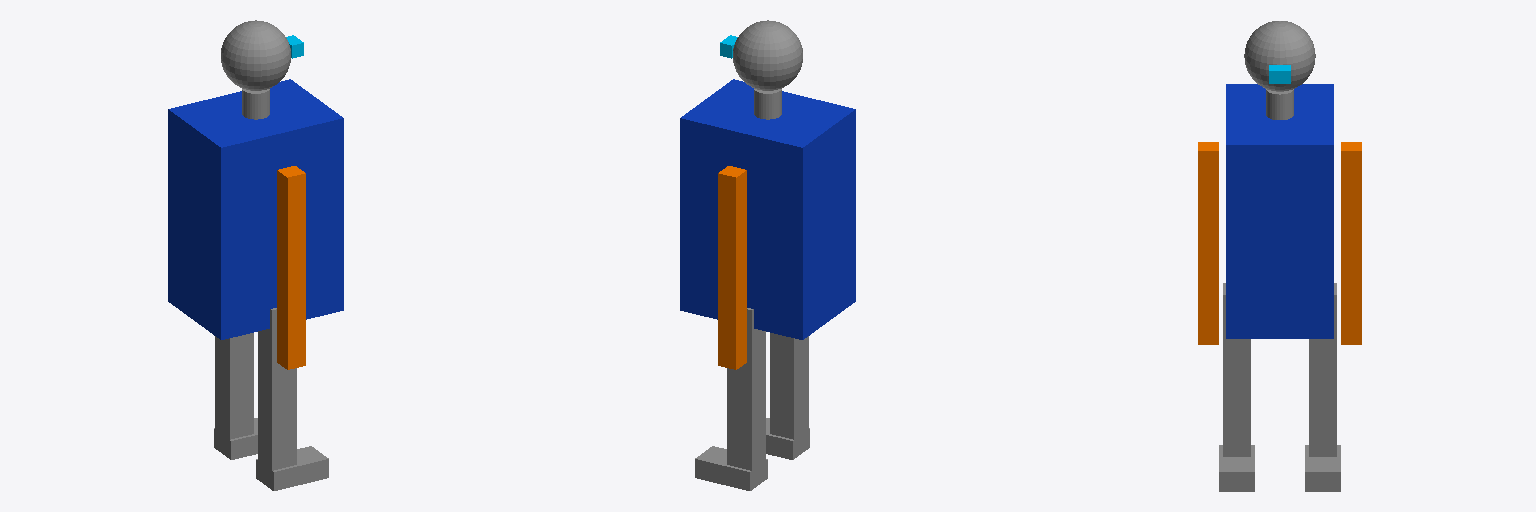
robot.urdf — my_robot:
<?xml version="1.0" ?>
<!-- =================================================================================== -->
<!-- |    This document was autogenerated by xacro from build/my_robot/robot_arm30.urdf.xacro | -->
<!-- |    EDITING THIS FILE BY HAND IS NOT RECOMMENDED                                 | -->
<!-- =================================================================================== -->
<!--
  xacro source of truth. Expand with:
      xacro robot.urdf.xacro > robot.urdf
  or let the launch file do it with:
      Command(['xacro ', path])

  Macros live in robot_parts.xacro (included below), so the arm and leg
  definitions exist exactly once.
-->
<robot name="my_robot">
  <!-- =========================== materials =========================== -->
  <material name="blue">
    <color rgba="0.10 0.30 0.80 1.0"/>
  </material>
  <material name="grey">
    <color rgba="0.60 0.60 0.60 1.0"/>
  </material>
  <material name="orange">
    <color rgba="1.00 0.50 0.00 1.0"/>
  </material>
  <material name="red">
    <color rgba="0.90 0.10 0.10 1.0"/>
  </material>
  <material name="glass">
    <color rgba="0.00 0.80 1.00 0.5"/>
  </material>
  <!-- ===================== links that exist once ===================== -->
  <link name="base_link">
    <visual>
      <geometry>
        <box size="0.4 0.3 0.6"/>
      </geometry>
      <origin rpy="0 0 0" xyz="0 0 0.8"/>
      <material name="blue"/>
    </visual>
    <collision>
      <geometry>
        <box size="0.4 0.3 0.6"/>
      </geometry>
      <origin rpy="0 0 0" xyz="0 0 0.8"/>
    </collision>
    <inertial>
      <mass value="8.0"/>
      <origin rpy="0 0 0" xyz="0 0 0.8"/>
      <inertia ixx="0.3" ixy="0.0" ixz="0.0" iyy="0.3466666666666667" iyz="0.0" izz="0.16666666666666666"/>
    </inertial>
  </link>
  <link name="neck">
    <visual>
      <geometry>
        <cylinder length="0.08" radius="0.04"/>
      </geometry>
      <origin rpy="0 0 0" xyz="0 0 0.04"/>
      <material name="grey"/>
    </visual>
    <collision>
      <geometry>
        <cylinder length="0.08" radius="0.04"/>
      </geometry>
      <origin rpy="0 0 0" xyz="0 0 0.04"/>
    </collision>
    <inertial>
      <mass value="0.2"/>
      <origin rpy="0 0 0" xyz="0 0 0.04"/>
      <inertia ixx="0.0001866666666666667" ixy="0.0" ixz="0.0" iyy="0.0001866666666666667" iyz="0.0" izz="0.00016"/>
    </inertial>
  </link>
  <link name="head">
    <visual>
      <geometry>
        <sphere radius="0.1"/>
      </geometry>
      <origin rpy="0 0 0" xyz="0 0 0.1"/>
      <material name="grey"/>
    </visual>
    <collision>
      <geometry>
        <sphere radius="0.1"/>
      </geometry>
      <origin rpy="0 0 0" xyz="0 0 0.1"/>
    </collision>
    <inertial>
      <mass value="1.0"/>
      <origin rpy="0 0 0" xyz="0 0 0.1"/>
      <inertia ixx="0.004000000000000001" ixy="0.0" ixz="0.0" iyy="0.004000000000000001" iyz="0.0" izz="0.004000000000000001"/>
    </inertial>
  </link>
  <link name="camera">
    <visual>
      <geometry>
        <box size="0.04 0.06 0.04"/>
      </geometry>
      <origin rpy="0 0 0" xyz="0 0 0"/>
      <material name="glass"/>
    </visual>
    <collision>
      <geometry>
        <box size="0.04 0.06 0.04"/>
      </geometry>
      <origin rpy="0 0 0" xyz="0 0 0"/>
    </collision>
    <inertial>
      <mass value="0.1"/>
      <origin rpy="0 0 0" xyz="0 0 0"/>
      <inertia ixx="4.333333333333333e-05" ixy="0.0" ixz="0.0" iyy="2.666666666666667e-05" iyz="0.0" izz="4.333333333333333e-05"/>
    </inertial>
  </link>
  <joint name="base_to_neck" type="fixed">
    <parent link="base_link"/>
    <child link="neck"/>
    <origin rpy="0 0 0" xyz="0 0 1.1"/>
  </joint>
  <joint name="neck_to_head" type="revolute">
    <parent link="neck"/>
    <child link="head"/>
    <origin rpy="0 0 0" xyz="0 0 0.08"/>
    <axis xyz="0 0 1"/>
    <limit effort="5.0" lower="-1.0" upper="1.0" velocity="1.0"/>
    <dynamics damping="0.1" friction="0.05"/>
  </joint>
  <joint name="head_to_camera" type="fixed">
    <parent link="head"/>
    <child link="camera"/>
    <origin rpy="0 0 0" xyz="0.12 0 0.1"/>
  </joint>
  <link name="left_upper_arm">
    <visual>
      <geometry>
        <box size="0.3 0.06 0.06"/>
      </geometry>
      <origin rpy="0 0 0" xyz="0.15 0 0"/>
      <material name="orange"/>
    </visual>
    <collision>
      <geometry>
        <box size="0.3 0.06 0.06"/>
      </geometry>
      <origin rpy="0 0 0" xyz="0.15 0 0"/>
    </collision>
    <inertial>
      <mass value="0.8"/>
      <origin rpy="0 0 0" xyz="0.15 0 0"/>
      <inertia ixx="0.00048" ixy="0.0" ixz="0.0" iyy="0.00624" iyz="0.0" izz="0.00624"/>
    </inertial>
  </link>
  <link name="left_lower_arm">
    <visual>
      <geometry>
        <box size="0.3 0.06 0.06"/>
      </geometry>
      <origin rpy="0 0 0" xyz="0.15 0 0"/>
      <material name="orange"/>
    </visual>
    <collision>
      <geometry>
        <box size="0.3 0.06 0.06"/>
      </geometry>
      <origin rpy="0 0 0" xyz="0.15 0 0"/>
    </collision>
    <inertial>
      <mass value="0.5"/>
      <origin rpy="0 0 0" xyz="0.15 0 0"/>
      <inertia ixx="0.0003" ixy="0.0" ixz="0.0" iyy="0.0039000000000000003" iyz="0.0" izz="0.0039000000000000003"/>
    </inertial>
  </link>
  <link name="left_gripper">
    <visual>
      <geometry>
        <mesh filename="package://my_robot/meshes/gripper.stl" scale="1 1 1"/>
      </geometry>
      <origin rpy="0 0 0" xyz="0.04 0 0"/>
      <material name="red"/>
    </visual>
    <collision>
      <geometry>
        <box size="0.08 0.1 0.06"/>
      </geometry>
      <origin rpy="0 0 0" xyz="0.04 0 0"/>
    </collision>
    <inertial>
      <mass value="0.2"/>
      <origin rpy="0 0 0" xyz="0.04 0 0"/>
      <inertia ixx="0.00022666666666666668" ixy="0.0" ixz="0.0" iyy="0.00016666666666666666" iyz="0.0" izz="0.0002733333333333334"/>
    </inertial>
  </link>
  <joint name="base_to_left_upper_arm" type="continuous">
    <parent link="base_link"/>
    <child link="left_upper_arm"/>
    <origin rpy="0 1.5708 0" xyz="0 0.2 1.0"/>
    <axis xyz="0 1 0"/>
    <dynamics damping="0.1" friction="0.05"/>
  </joint>
  <joint name="left_elbow" type="revolute">
    <parent link="left_upper_arm"/>
    <child link="left_lower_arm"/>
    <origin rpy="0 0 0" xyz="0.3 0 0"/>
    <axis xyz="0 1 0"/>
    <limit effort="10.0" lower="-1.5708" upper="1.5708" velocity="1.0"/>
    <dynamics damping="0.1" friction="0.05"/>
  </joint>
  <joint name="left_wrist" type="fixed">
    <parent link="left_lower_arm"/>
    <child link="left_gripper"/>
    <origin rpy="0 0 0" xyz="0.3 0 0"/>
  </joint>
  <link name="right_upper_arm">
    <visual>
      <geometry>
        <box size="0.3 0.06 0.06"/>
      </geometry>
      <origin rpy="0 0 0" xyz="0.15 0 0"/>
      <material name="orange"/>
    </visual>
    <collision>
      <geometry>
        <box size="0.3 0.06 0.06"/>
      </geometry>
      <origin rpy="0 0 0" xyz="0.15 0 0"/>
    </collision>
    <inertial>
      <mass value="0.8"/>
      <origin rpy="0 0 0" xyz="0.15 0 0"/>
      <inertia ixx="0.00048" ixy="0.0" ixz="0.0" iyy="0.00624" iyz="0.0" izz="0.00624"/>
    </inertial>
  </link>
  <link name="right_lower_arm">
    <visual>
      <geometry>
        <box size="0.3 0.06 0.06"/>
      </geometry>
      <origin rpy="0 0 0" xyz="0.15 0 0"/>
      <material name="orange"/>
    </visual>
    <collision>
      <geometry>
        <box size="0.3 0.06 0.06"/>
      </geometry>
      <origin rpy="0 0 0" xyz="0.15 0 0"/>
    </collision>
    <inertial>
      <mass value="0.5"/>
      <origin rpy="0 0 0" xyz="0.15 0 0"/>
      <inertia ixx="0.0003" ixy="0.0" ixz="0.0" iyy="0.0039000000000000003" iyz="0.0" izz="0.0039000000000000003"/>
    </inertial>
  </link>
  <link name="right_gripper">
    <visual>
      <geometry>
        <mesh filename="package://my_robot/meshes/gripper.stl" scale="1 1 1"/>
      </geometry>
      <origin rpy="0 0 0" xyz="0.04 0 0"/>
      <material name="red"/>
    </visual>
    <collision>
      <geometry>
        <box size="0.08 0.1 0.06"/>
      </geometry>
      <origin rpy="0 0 0" xyz="0.04 0 0"/>
    </collision>
    <inertial>
      <mass value="0.2"/>
      <origin rpy="0 0 0" xyz="0.04 0 0"/>
      <inertia ixx="0.00022666666666666668" ixy="0.0" ixz="0.0" iyy="0.00016666666666666666" iyz="0.0" izz="0.0002733333333333334"/>
    </inertial>
  </link>
  <joint name="base_to_right_upper_arm" type="continuous">
    <parent link="base_link"/>
    <child link="right_upper_arm"/>
    <origin rpy="0 1.5708 0" xyz="0 -0.2 1.0"/>
    <axis xyz="0 1 0"/>
    <dynamics damping="0.1" friction="0.05"/>
  </joint>
  <joint name="right_elbow" type="revolute">
    <parent link="right_upper_arm"/>
    <child link="right_lower_arm"/>
    <origin rpy="0 0 0" xyz="0.3 0 0"/>
    <axis xyz="0 1 0"/>
    <limit effort="10.0" lower="-1.5708" upper="1.5708" velocity="1.0"/>
    <dynamics damping="0.1" friction="0.05"/>
  </joint>
  <joint name="right_wrist" type="fixed">
    <parent link="right_lower_arm"/>
    <child link="right_gripper"/>
    <origin rpy="0 0 0" xyz="0.3 0 0"/>
  </joint>
  <link name="left_upper_leg">
    <visual>
      <geometry>
        <box size="0.25 0.08 0.08"/>
      </geometry>
      <origin rpy="0 0 0" xyz="0.125 0 0"/>
      <material name="grey"/>
    </visual>
    <collision>
      <geometry>
        <box size="0.25 0.08 0.08"/>
      </geometry>
      <origin rpy="0 0 0" xyz="0.125 0 0"/>
    </collision>
    <inertial>
      <mass value="1.0"/>
      <origin rpy="0 0 0" xyz="0.125 0 0"/>
      <inertia ixx="0.0010666666666666667" ixy="0.0" ixz="0.0" iyy="0.005741666666666667" iyz="0.0" izz="0.005741666666666667"/>
    </inertial>
  </link>
  <link name="left_lower_leg">
    <visual>
      <geometry>
        <box size="0.25 0.08 0.08"/>
      </geometry>
      <origin rpy="0 0 0" xyz="0.125 0 0"/>
      <material name="grey"/>
    </visual>
    <collision>
      <geometry>
        <box size="0.25 0.08 0.08"/>
      </geometry>
      <origin rpy="0 0 0" xyz="0.125 0 0"/>
    </collision>
    <inertial>
      <mass value="0.6"/>
      <origin rpy="0 0 0" xyz="0.125 0 0"/>
      <inertia ixx="0.00064" ixy="0.0" ixz="0.0" iyy="0.003445" iyz="0.0" izz="0.003445"/>
    </inertial>
  </link>
  <link name="left_foot">
    <visual>
      <geometry>
        <box size="0.06 0.1 0.18"/>
      </geometry>
      <origin rpy="0 0 0" xyz="0.03 0 0.05"/>
      <material name="grey"/>
    </visual>
    <collision>
      <geometry>
        <box size="0.06 0.1 0.18"/>
      </geometry>
      <origin rpy="0 0 0" xyz="0.03 0 0.05"/>
    </collision>
    <inertial>
      <mass value="0.3"/>
      <origin rpy="0 0 0" xyz="0.03 0 0.05"/>
      <inertia ixx="0.00106" ixy="0.0" ixz="0.0" iyy="0.0008999999999999999" iyz="0.0" izz="0.00034"/>
    </inertial>
  </link>
  <joint name="base_to_left_upper_leg" type="continuous">
    <parent link="base_link"/>
    <child link="left_upper_leg"/>
    <origin rpy="0 1.5708 0" xyz="0 0.12 0.56"/>
    <axis xyz="0 1 0"/>
    <limit effort="10.0" lower="-1.5708" upper="1.5708" velocity="1.0"/>
    <dynamics damping="0.1" friction="0.05"/>
  </joint>
  <joint name="left_knee" type="revolute">
    <parent link="left_upper_leg"/>
    <child link="left_lower_leg"/>
    <origin rpy="0 0 0" xyz="0.25 0 0"/>
    <axis xyz="0 1 0"/>
    <limit effort="10.0" lower="-1.5708" upper="1.5708" velocity="1.0"/>
    <dynamics damping="0.1" friction="0.05"/>
  </joint>
  <joint name="left_ankle" type="fixed">
    <parent link="left_lower_leg"/>
    <child link="left_foot"/>
    <origin rpy="0 0 0" xyz="0.25 0 0"/>
  </joint>
  <link name="right_upper_leg">
    <visual>
      <geometry>
        <box size="0.25 0.08 0.08"/>
      </geometry>
      <origin rpy="0 0 0" xyz="0.125 0 0"/>
      <material name="grey"/>
    </visual>
    <collision>
      <geometry>
        <box size="0.25 0.08 0.08"/>
      </geometry>
      <origin rpy="0 0 0" xyz="0.125 0 0"/>
    </collision>
    <inertial>
      <mass value="1.0"/>
      <origin rpy="0 0 0" xyz="0.125 0 0"/>
      <inertia ixx="0.0010666666666666667" ixy="0.0" ixz="0.0" iyy="0.005741666666666667" iyz="0.0" izz="0.005741666666666667"/>
    </inertial>
  </link>
  <link name="right_lower_leg">
    <visual>
      <geometry>
        <box size="0.25 0.08 0.08"/>
      </geometry>
      <origin rpy="0 0 0" xyz="0.125 0 0"/>
      <material name="grey"/>
    </visual>
    <collision>
      <geometry>
        <box size="0.25 0.08 0.08"/>
      </geometry>
      <origin rpy="0 0 0" xyz="0.125 0 0"/>
    </collision>
    <inertial>
      <mass value="0.6"/>
      <origin rpy="0 0 0" xyz="0.125 0 0"/>
      <inertia ixx="0.00064" ixy="0.0" ixz="0.0" iyy="0.003445" iyz="0.0" izz="0.003445"/>
    </inertial>
  </link>
  <link name="right_foot">
    <visual>
      <geometry>
        <box size="0.06 0.1 0.18"/>
      </geometry>
      <origin rpy="0 0 0" xyz="0.03 0 0.05"/>
      <material name="grey"/>
    </visual>
    <collision>
      <geometry>
        <box size="0.06 0.1 0.18"/>
      </geometry>
      <origin rpy="0 0 0" xyz="0.03 0 0.05"/>
    </collision>
    <inertial>
      <mass value="0.3"/>
      <origin rpy="0 0 0" xyz="0.03 0 0.05"/>
      <inertia ixx="0.00106" ixy="0.0" ixz="0.0" iyy="0.0008999999999999999" iyz="0.0" izz="0.00034"/>
    </inertial>
  </link>
  <joint name="base_to_right_upper_leg" type="continuous">
    <parent link="base_link"/>
    <child link="right_upper_leg"/>
    <origin rpy="0 1.5708 0" xyz="0 -0.12 0.56"/>
    <axis xyz="0 1 0"/>
    <limit effort="10.0" lower="-1.5708" upper="1.5708" velocity="1.0"/>
    <dynamics damping="0.1" friction="0.05"/>
  </joint>
  <joint name="right_knee" type="revolute">
    <parent link="right_upper_leg"/>
    <child link="right_lower_leg"/>
    <origin rpy="0 0 0" xyz="0.25 0 0"/>
    <axis xyz="0 1 0"/>
    <limit effort="10.0" lower="-1.5708" upper="1.5708" velocity="1.0"/>
    <dynamics damping="0.1" friction="0.05"/>
  </joint>
  <joint name="right_ankle" type="fixed">
    <parent link="right_lower_leg"/>
    <child link="right_foot"/>
    <origin rpy="0 0 0" xyz="0.25 0 0"/>
  </joint>
</robot>

--- What the picture shows (computed from the rendered views, not written in the file) ---
3 views of the same robot in one strip: view 1: azimuth 30°, elevation 25°; view 2: azimuth 150°, elevation 25°; view 3: azimuth 270°, elevation 25° (orthographic).
Model my_robot with 16 links and 15 joints (5 revolute, 4 continuous, 6 fixed), rooted at base_link, posed all joints at 0.
Links seen in each view (by area): view 1: base_link, head, left_lower_leg, right_lower_leg, right_upper_arm, right_lower_arm, right_foot, right_upper_leg, left_foot, neck, left_upper_leg; view 2: base_link, head, right_lower_leg, left_lower_leg, left_upper_arm, left_lower_arm, left_foot, left_upper_leg, right_foot, neck, right_upper_leg; view 3: base_link, head, left_lower_leg, right_lower_leg, left_upper_arm, right_upper_arm, left_lower_arm, right_lower_arm, left_foot, right_foot, left_upper_leg, right_upper_leg (+1 smaller).
Boxes of the visible links, left/top/right/bottom form: base_link: left=168, top=79, right=343, bottom=339; head: left=221, top=20, right=290, bottom=90; left_lower_leg: left=215, top=349, right=253, bottom=439; right_lower_leg: left=258, top=381, right=296, bottom=470; right_upper_arm: left=277, top=166, right=305, bottom=273; right_lower_arm: left=277, top=267, right=305, bottom=369; right_foot: left=256, top=446, right=328, bottom=490; right_upper_leg: left=258, top=308, right=296, bottom=390; left_foot: left=214, top=418, right=257, bottom=459; neck: left=242, top=89, right=269, bottom=119; left_upper_leg: left=215, top=333, right=253, bottom=359; base_link: left=680, top=79, right=855, bottom=339; head: left=733, top=20, right=802, bottom=90; right_lower_leg: left=770, top=349, right=808, bottom=439; left_lower_leg: left=727, top=381, right=765, bottom=470; left_upper_arm: left=718, top=166, right=746, bottom=273; left_lower_arm: left=718, top=267, right=746, bottom=369; left_foot: left=695, top=446, right=767, bottom=490; left_upper_leg: left=727, top=308, right=765, bottom=390; right_foot: left=766, top=418, right=809, bottom=459; neck: left=754, top=89, right=781, bottom=119; right_upper_leg: left=770, top=333, right=808, bottom=359; base_link: left=1226, top=84, right=1333, bottom=338; head: left=1244, top=21, right=1315, bottom=91; left_lower_leg: left=1309, top=376, right=1336, bottom=456; right_lower_leg: left=1223, top=376, right=1250, bottom=456; left_upper_arm: left=1341, top=142, right=1361, bottom=247; right_upper_arm: left=1198, top=142, right=1218, bottom=247; left_lower_arm: left=1341, top=248, right=1361, bottom=344; right_lower_arm: left=1198, top=248, right=1218, bottom=344; left_foot: left=1305, top=445, right=1340, bottom=491; right_foot: left=1219, top=445, right=1254, bottom=491; left_upper_leg: left=1309, top=283, right=1336, bottom=375; right_upper_leg: left=1223, top=283, right=1250, bottom=375.
Size in the robot's own frame: 0.4 by 0.46 by 1.38 metres.
0 mesh visuals loaded from 1 distinct referenced files (none loaded); not drawn: 2 (file found but could not be loaded).
